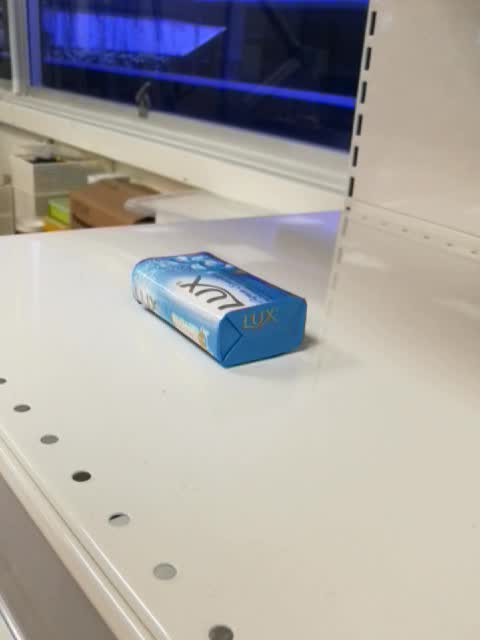soap: (130, 250, 308, 370)
